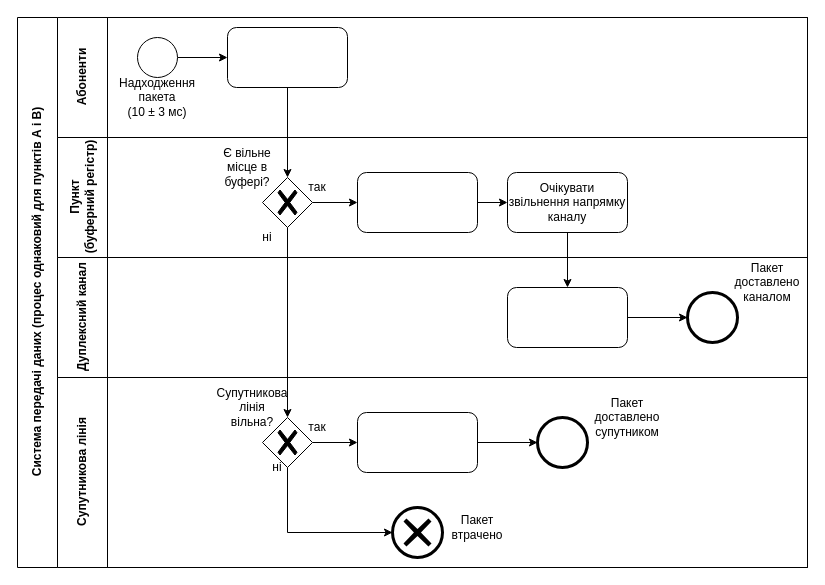
The diagram is 825 pixels wide and 585 high, and some of its shapes have lost their labels. The centre of each missing label's shape, as x and y in pixels:
Записати пакет у буфер: pixel 417 202
Передати пакет каналом (10 мс), звільнити місце в буфері: pixel 567 317
Передати пакет супутниковою лінією (10 ± 5 мс): pixel 417 442
Сформувати пакет і передати в пункт: pixel 287 57
